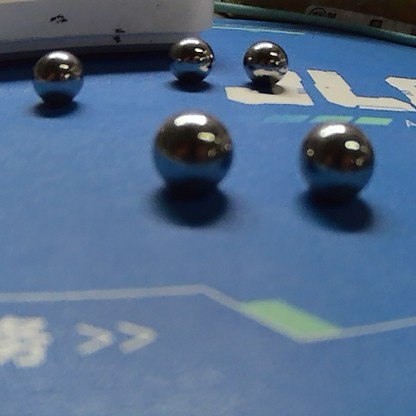ironball: (140, 101, 245, 204), (291, 111, 383, 211), (29, 45, 95, 116), (158, 32, 220, 91), (239, 36, 300, 95)
